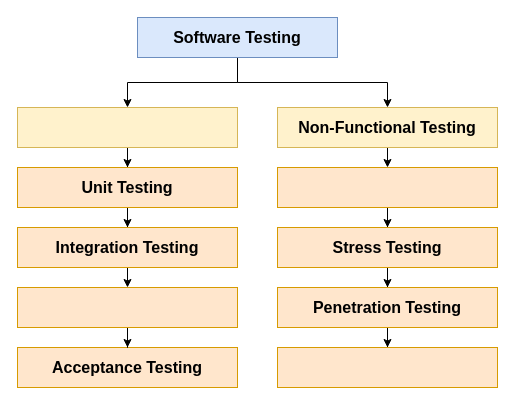
Some shapes in this 515 by 405 pixel diagram are drawn without their labels. The centre of each missing label's shape, as x and y in pixels:
Disaster Recovery Testing: point 387,367
Functional Testing: point 127,127
Load Testing: point 387,187
Regression Testing: point 127,307
